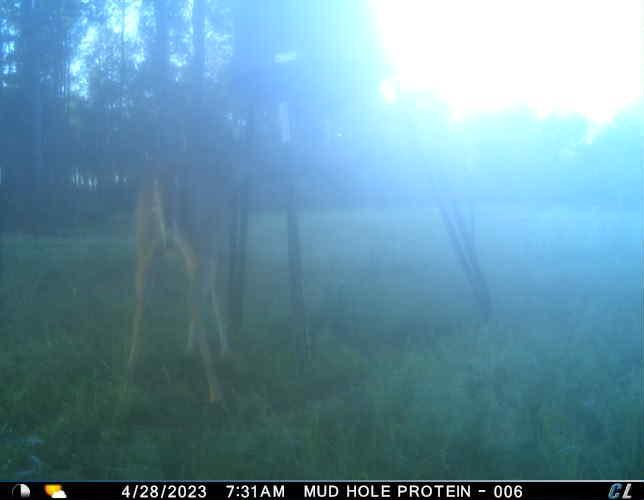Deer: (119, 150, 239, 414)
